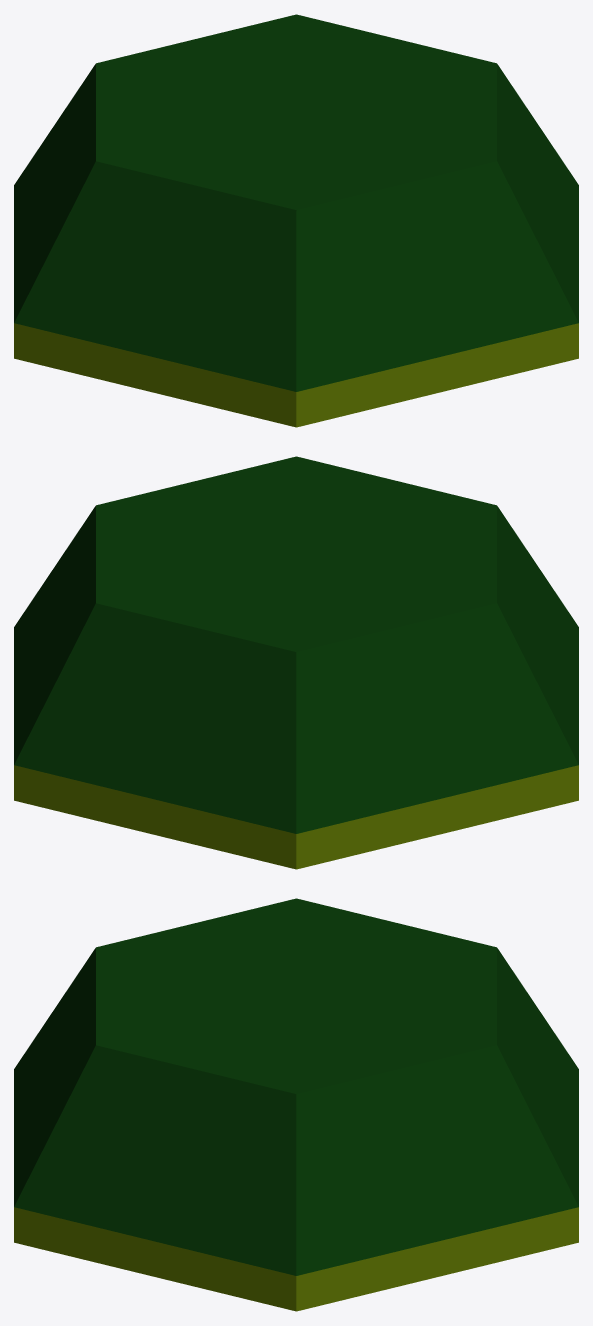
File: Turret.obj
The picture shows the model from 3 angles, top to bottom: view 1: azimuth 30°, elevation 25°; view 2: azimuth 150°, elevation 25°; view 3: azimuth 270°, elevation 25°; orthographic projection.
Bounding box in the file's own units: 0.8 × 0.24 × 0.6928.
